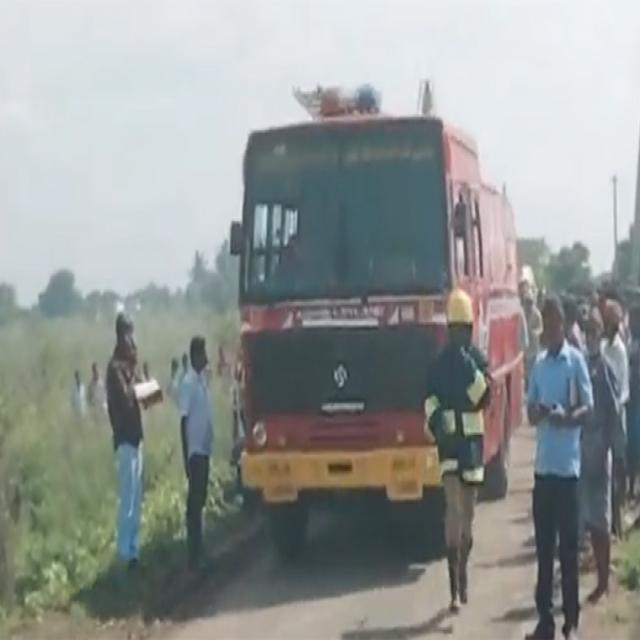emergency: (231, 103, 524, 546)
